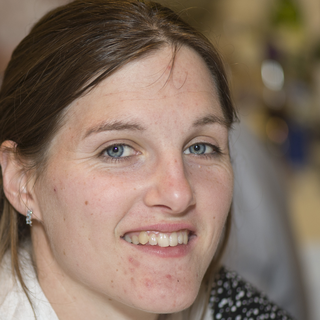eye: (86, 138, 148, 165), (181, 134, 226, 165)
